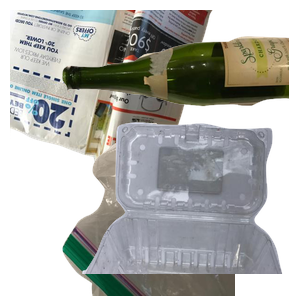glass: (60, 34, 300, 133)
paper: (10, 10, 215, 186)
plastic: (80, 120, 300, 300)
trash: (60, 120, 300, 300)
